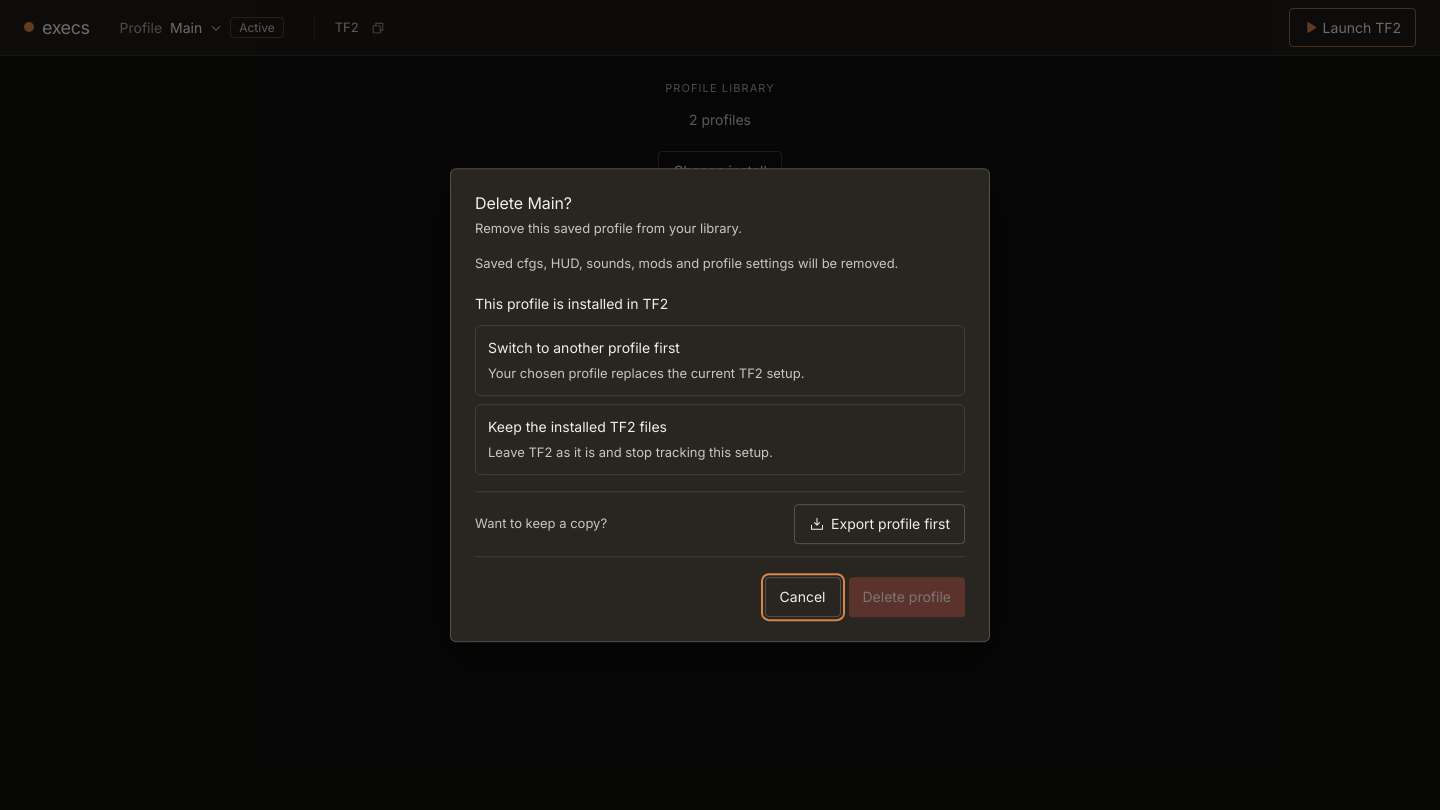
it: closes deletion review before routing to Files from export review
Expected: the dialog with test id "profile-delete-dialog" is shown, [450,168,990,642]
Click the button "Export profile first". click: (880, 524)
box: [794,504,965,544]
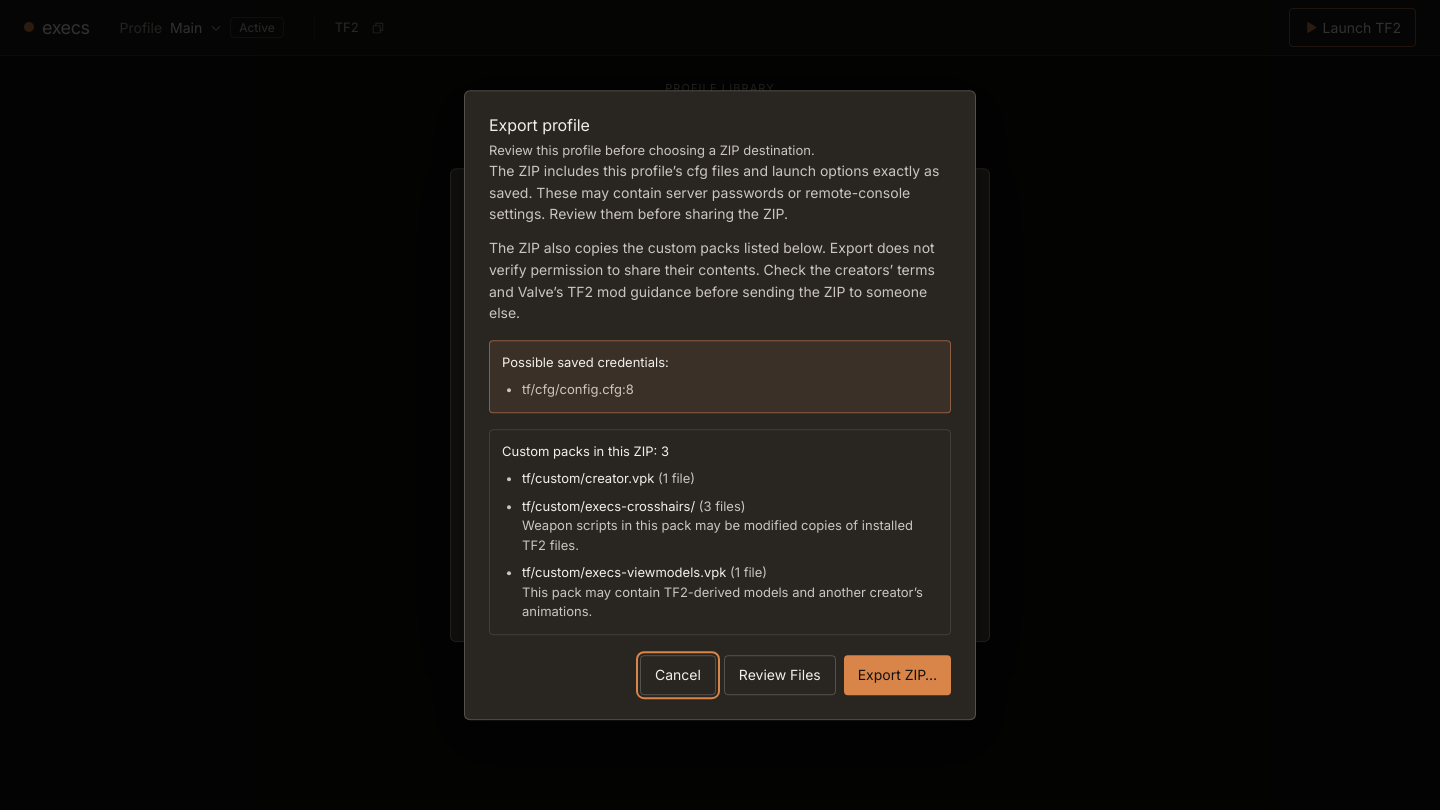
Expected: the dialog that starts with "Export profile" is shown, [464,90,976,720]
Click the button "Review Files". click: (780, 675)
box: [724,655,836,695]
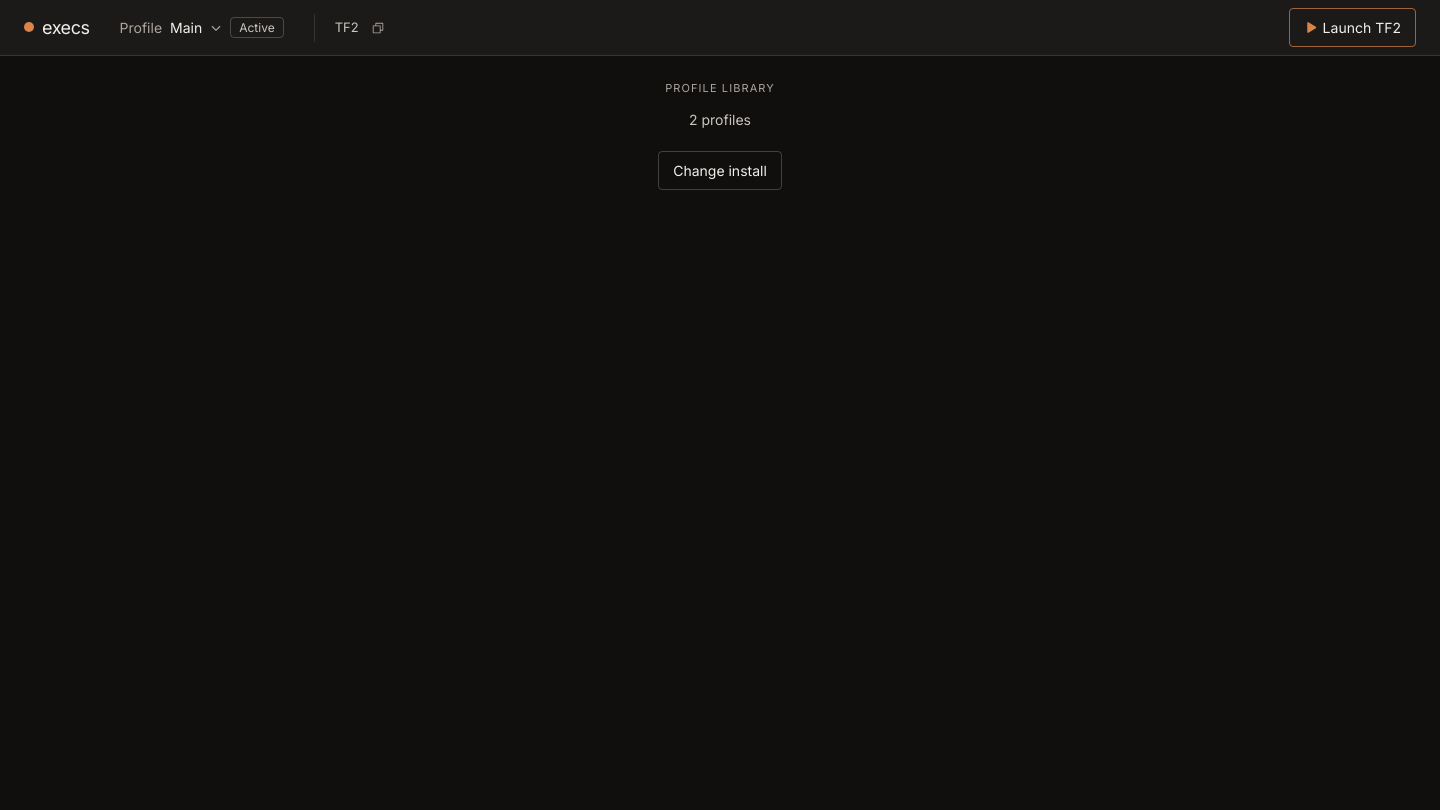
Expected: the dialog with test id "profile-delete-dialog" is gone
Expected: the dialog is gone
